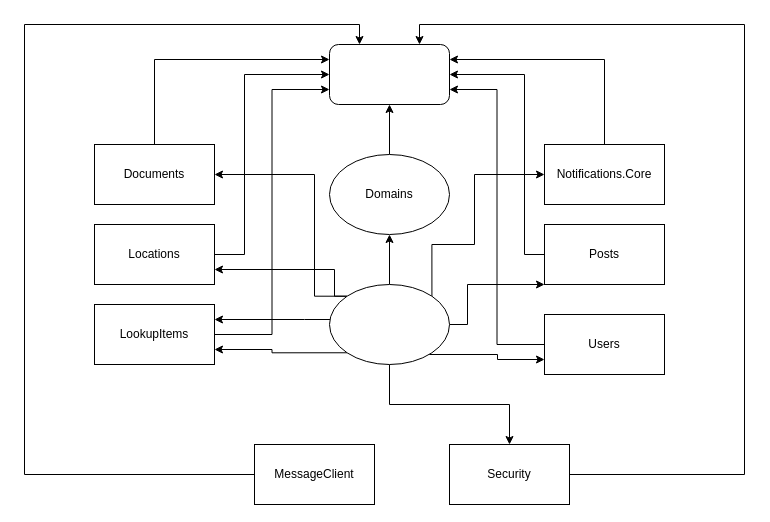
Image size: 770x522. Some labels were removed from this diagram. Here are the shapes that lost their labels. From the top down, the centre of each, then its label:
At (389,74): "Dashboard API".
At (389,324): "Abstractions".
